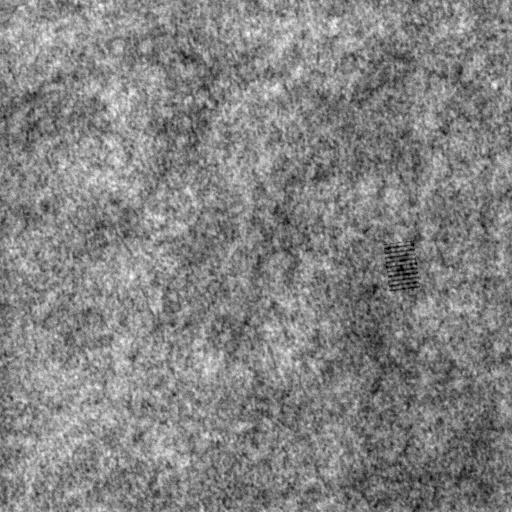DefectTypeB: (384, 240, 424, 291)
